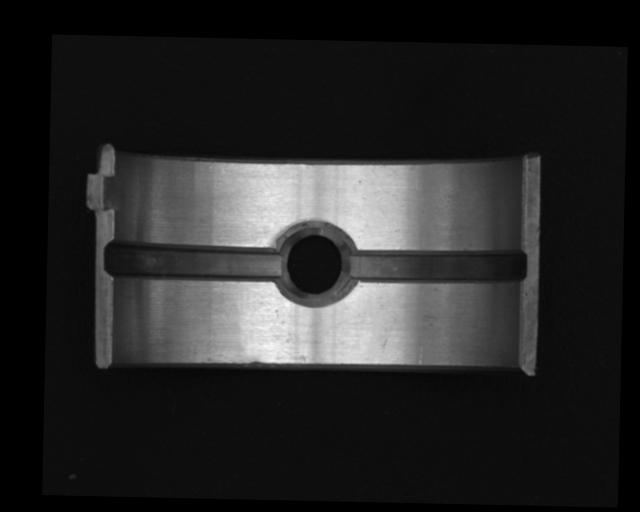gap: (341, 244, 528, 288), (104, 239, 284, 283)
hole: (275, 222, 354, 304)
nick: (416, 344, 425, 365)
